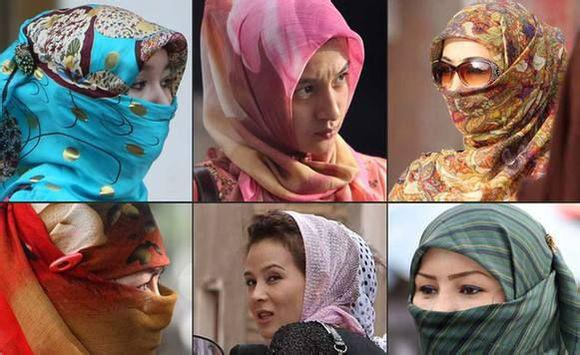NONE: (272, 61, 355, 153), (87, 264, 167, 355), (243, 261, 309, 336)
WRONG: (90, 54, 183, 160), (412, 266, 497, 355), (430, 53, 503, 126)
